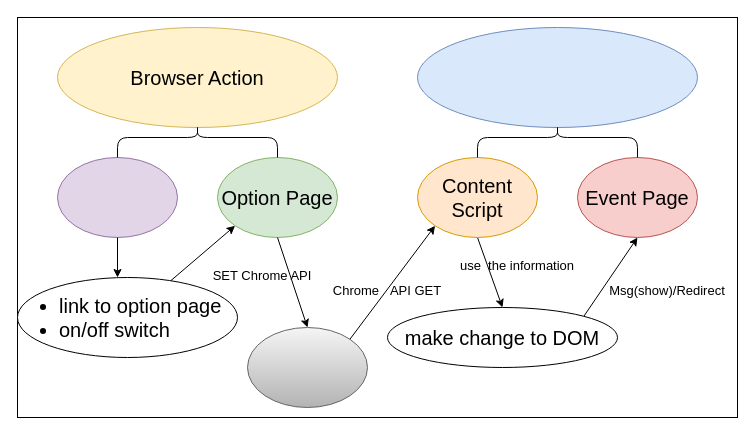
This 755x435 diagram has some shape labels left out. The shapes that lost their labels are listed below. From the top down, each one's box as (x1, y1, x2, y2) in pixels, then its label:
(416, 26, 698, 128): Page Action
(56, 156, 178, 238): Pop-up
(246, 326, 368, 408): Chrom Storage
